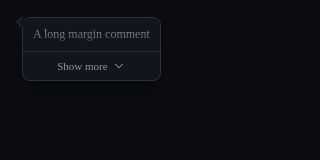
comment sidebar scroll range › collapses a long comment by default and lets the reader expand it
This screenshot has width=320, height=160.
Click the button with test id "button-comment-toggle-comment-1".
click(91, 65)  # box [23, 50, 160, 80]
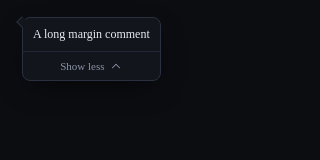
expect the button with test id "button-comment-toggle-comment-1" is expanded: met
expect the button with test id "button-comment-toggle-comment-1" reads "Show less": met
Click the button with test id "button-comment-toggle-comment-1".
click(91, 65)  # box [23, 50, 160, 80]
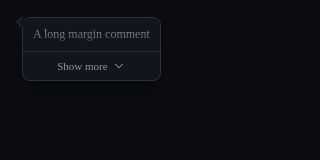
expect the button with test id "button-comment-toggle-comment-1" is collapsed: met, box [23, 50, 160, 80]
